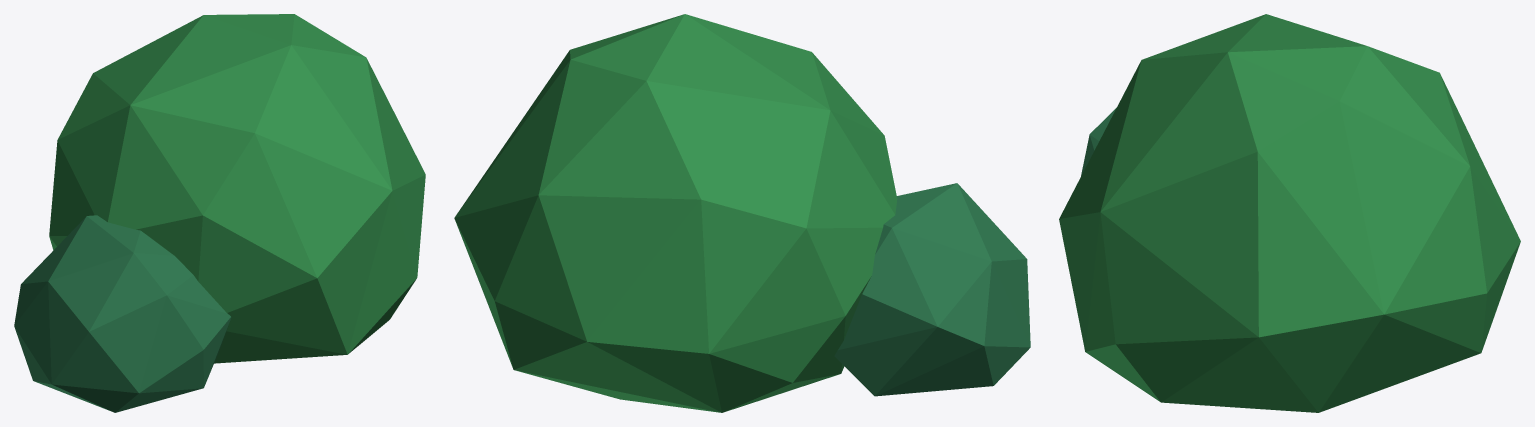
The model's file is floresta_bush_clumps_medium.glb.
The picture shows the model from 3 angles, left to right: view 1: azimuth 30°, elevation 25°; view 2: azimuth 150°, elevation 25°; view 3: azimuth 270°, elevation 25°; orthographic projection. The views are drawn at different scales.
Parts seen in each view (by area): view 1: bush clumps middle f; view 2: bush clumps middle f; view 3: bush clumps middle f.
Part boxes in pixels (left/top/right/bottom): bush clumps middle f: left=14, top=14, right=425, bottom=412; bush clumps middle f: left=454, top=14, right=1030, bottom=412; bush clumps middle f: left=1059, top=14, right=1520, bottom=412.
Bounding box in the file's own units: 3.61 × 2.34 × 2.99.
